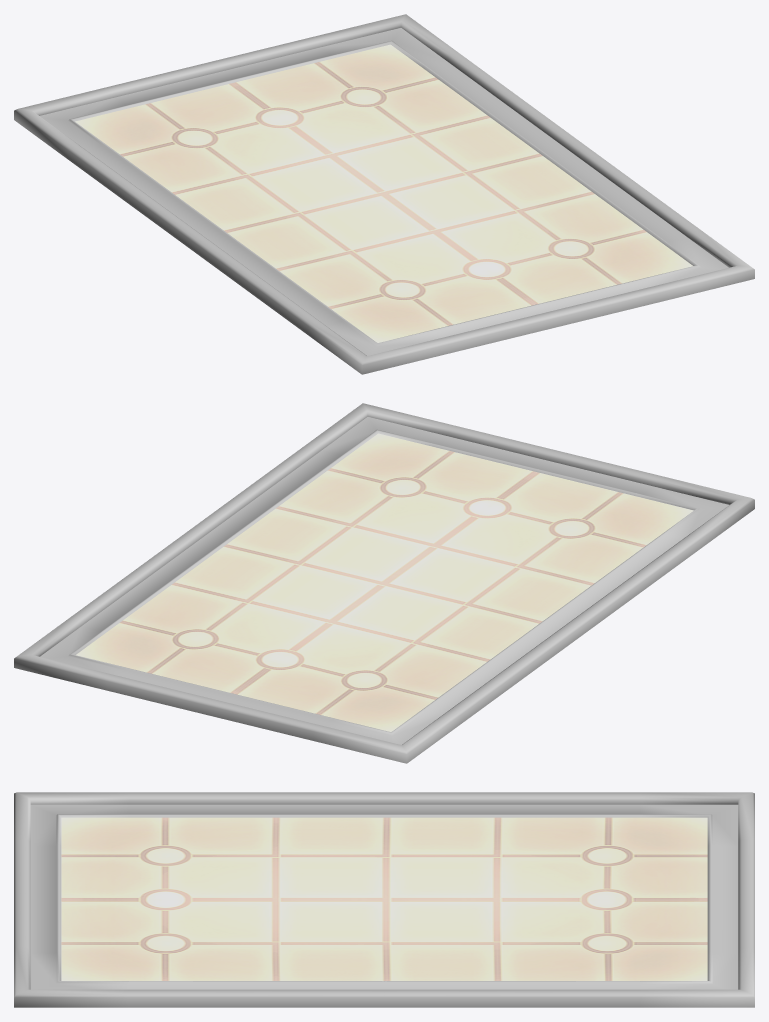
The model's file is mod_zlc_jianzhu056_xy.FBX.
The picture shows the model from 3 angles, top to bottom: view 1: azimuth 30°, elevation 25°; view 2: azimuth 150°, elevation 25°; view 3: azimuth 270°, elevation 25°; orthographic projection. The views are drawn at different scales.
Parts seen in each view (by area): view 1: mod_zlc_jianzhu056_xy; view 2: mod_zlc_jianzhu056_xy; view 3: mod_zlc_jianzhu056_xy.
Part boxes in pixels (box(x1,y1,x2,y2)): mod_zlc_jianzhu056_xy: box(14, 14, 754, 374); mod_zlc_jianzhu056_xy: box(14, 403, 754, 763); mod_zlc_jianzhu056_xy: box(14, 792, 754, 1007).
Size of the model in its own units: 452 by 12.49 by 694.
